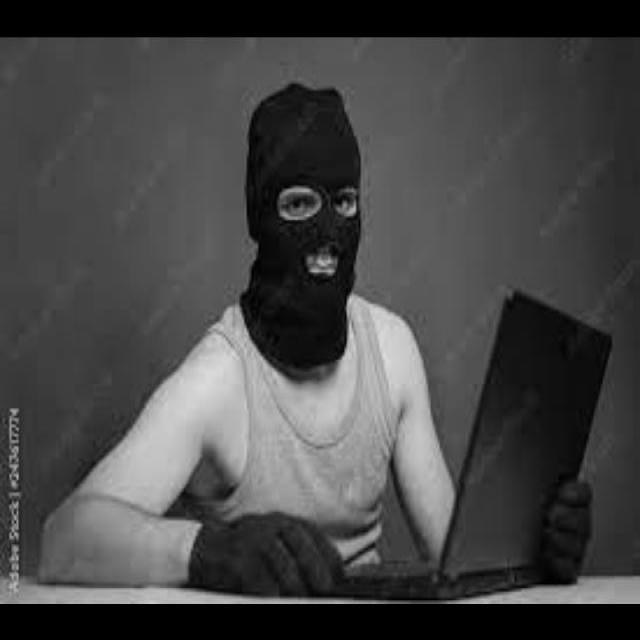6_pasamontana: (238, 81, 363, 369)
